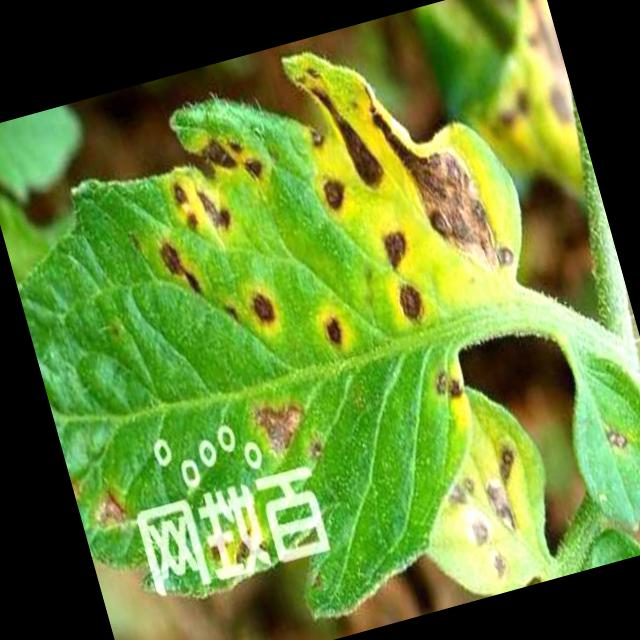Early_blight: (359, 51, 518, 297), (292, 55, 388, 199), (178, 121, 271, 204), (475, 441, 538, 536), (169, 170, 241, 246), (246, 391, 315, 461), (152, 230, 209, 306), (204, 523, 272, 572), (306, 164, 356, 223), (373, 217, 421, 276), (245, 278, 287, 337), (85, 485, 133, 534), (389, 279, 435, 329), (429, 359, 470, 408), (460, 503, 499, 551), (482, 545, 514, 585), (319, 315, 347, 350), (603, 426, 632, 451)
